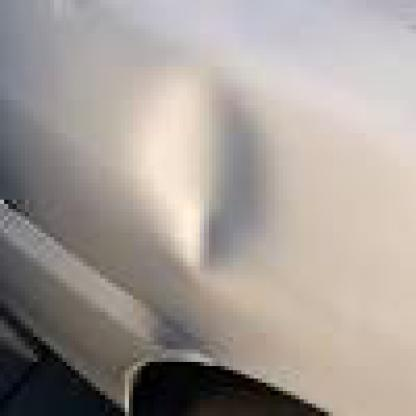dent: (131, 83, 285, 279)
